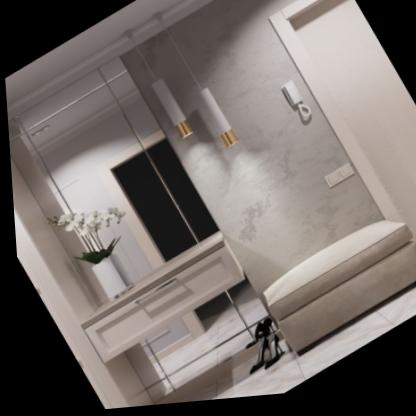Ceramic floor: (207, 292, 416, 403)
